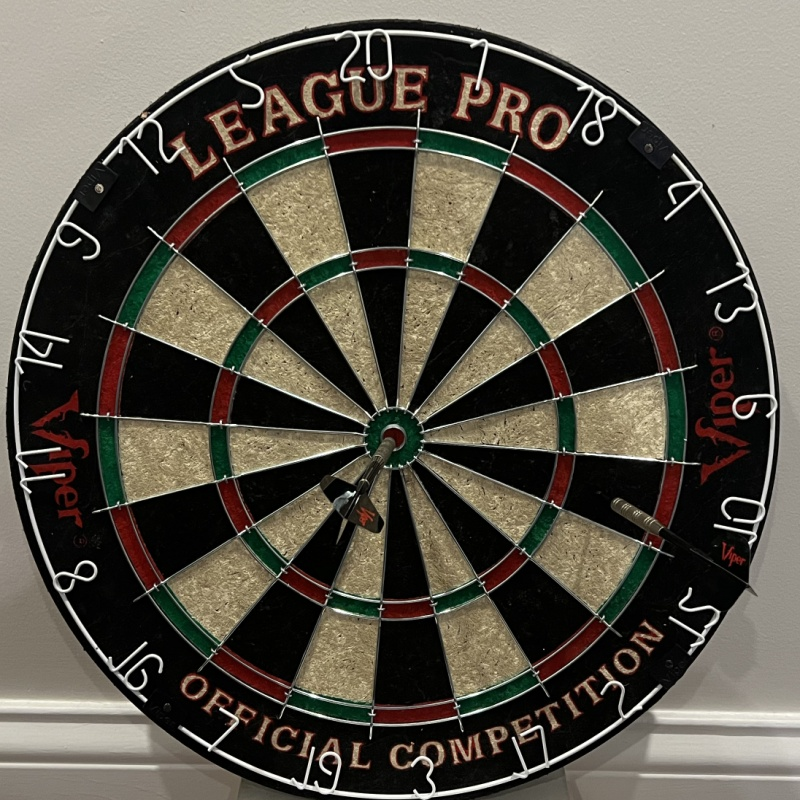dart: (379, 430, 400, 453), (607, 495, 629, 515)
eleven: (16, 444, 69, 493)
six: (732, 391, 778, 419)
three: (411, 754, 437, 800)
twenty: (334, 28, 394, 80)
